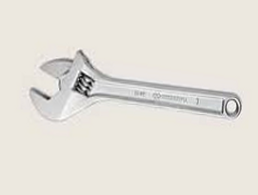Wrench: (28, 47, 256, 135)
